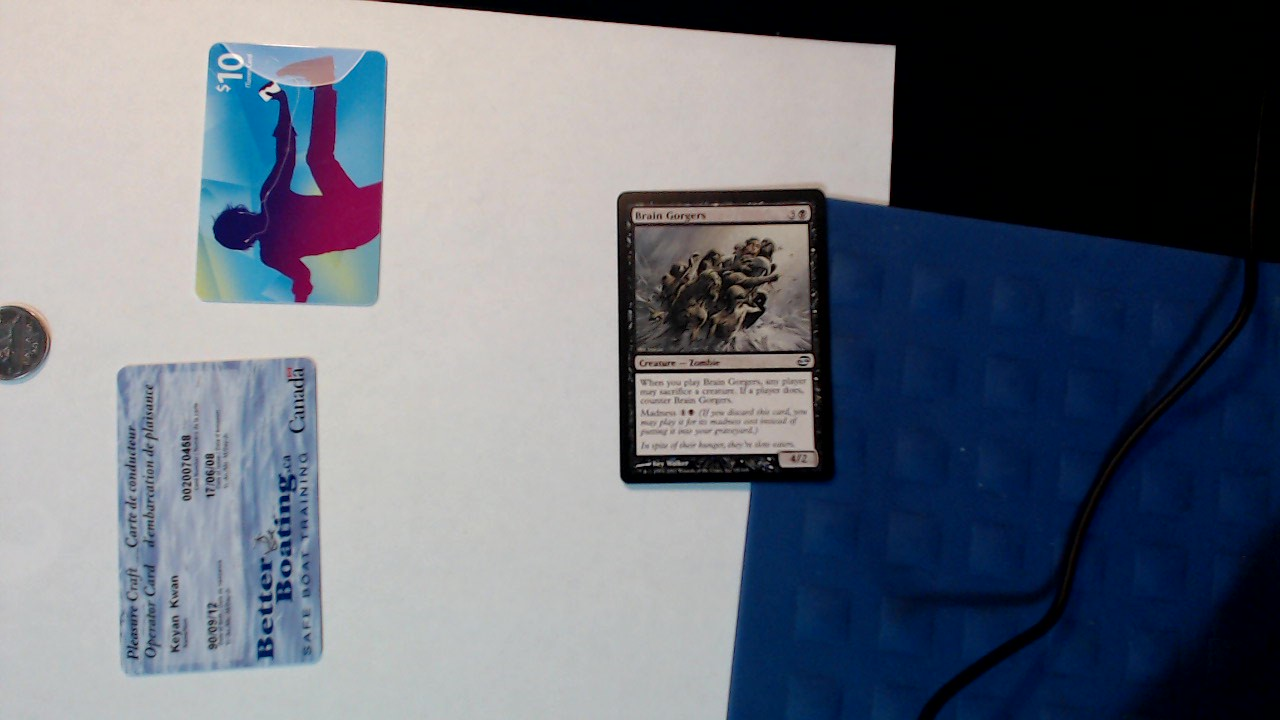MTG Card: (611, 183, 841, 492)
